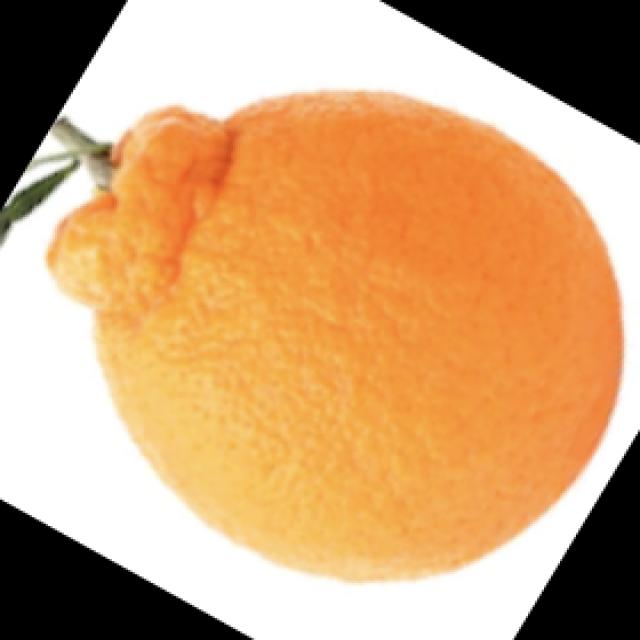fresh: (27, 84, 634, 588)
